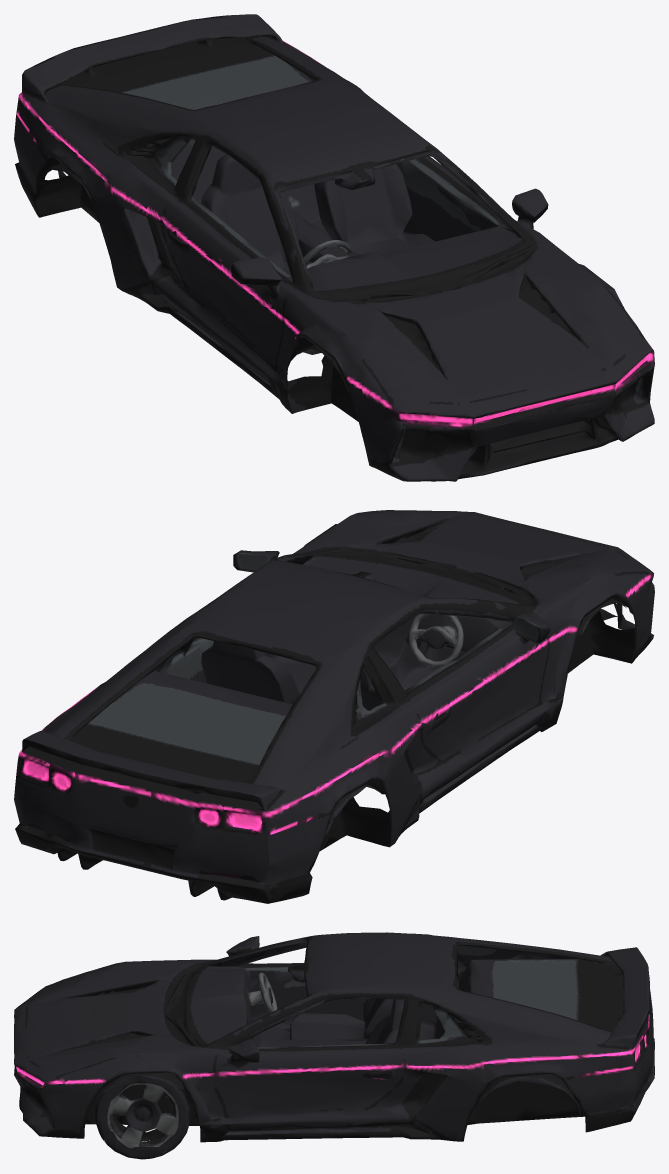
File: hero.glb
3 renders of one model, top to bottom at view 1: azimuth 30°, elevation 25°; view 2: azimuth 150°, elevation 25°; view 3: azimuth 270°, elevation 25°, orthographic. The views are drawn at different scales.
Visible parts, largest first — view 1: body; view 2: body; view 3: body, wheel_FR.
Part boxes in pixels (x1=…): body: x1=14, y1=14, x2=654, y2=481; body: x1=14, y1=510, x2=654, y2=903; body: x1=14, y1=932, x2=654, y2=1142; wheel_FR: x1=95, y1=1075, x2=191, y2=1159.
Bounding box in the file's own units: 2.05 × 1.25 × 4.8.
Materials: 1 (1 with a texture image).
